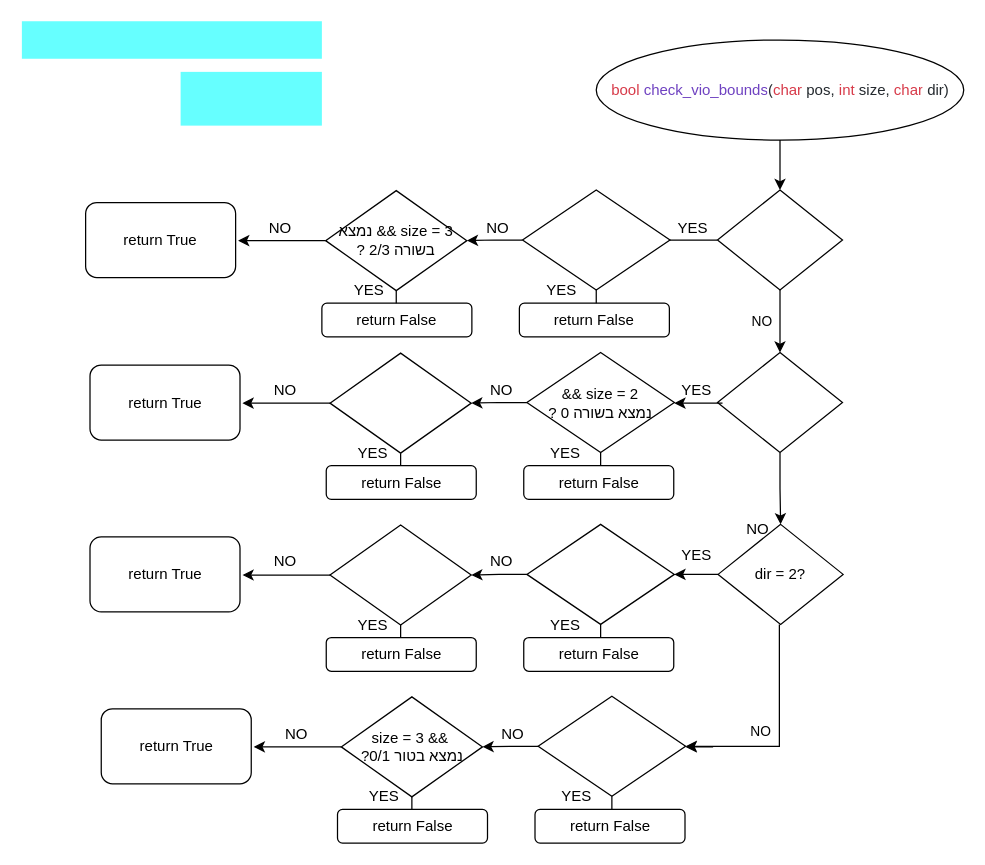
This 985x865 diagram has some shape labels left out. The shapes that lost their labels are listed below. From the top down, each one's centre as x and y in pixels, then its label:
[171,39]: direction : 0=down, 1=up, 2=right, 3=left.
[250,98]: הטורים הם מ-0 עד 15. השורות הם מ-0 עד 3.
[595,239]: size = 2 && נמצא בשורה 3 ?
[779,239]: dir = 0?
[400,402]: size = 3 && נמצא בשורה 1/0 ?
[779,401]: dir = 1?
[400,574]: size = 3 && נמצא בטור 15/14 ?
[600,573]: size = 2 && נמצא בטור 15?
[611,745]: size = 2 && נמצא בטור 0?
